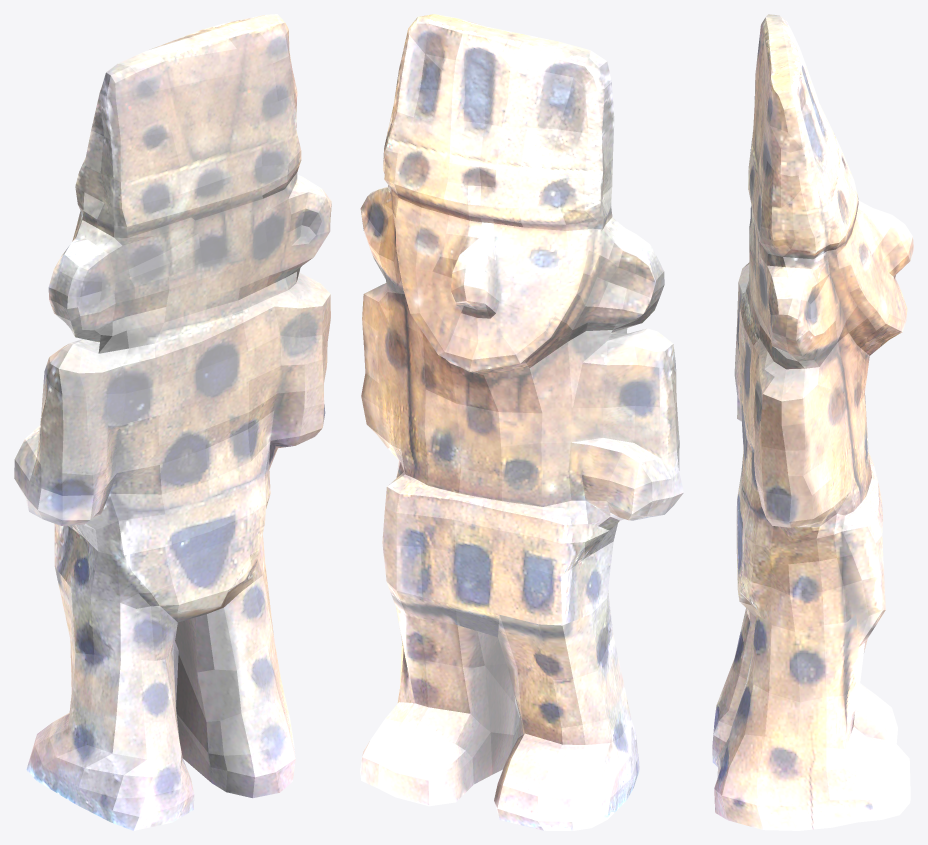
Rendered from escultura_tallada.glb.
3 renders of one model, left to right at view 1: azimuth 30°, elevation 25°; view 2: azimuth 150°, elevation 25°; view 3: azimuth 270°, elevation 25°, orthographic.
Visible parts, largest first — view 1: Box002; view 2: Box002; view 3: Box002.
Boxes of the visible parts, x1,y1,x2,y2 form: Box002: (14, 14, 331, 830); Box002: (360, 14, 683, 830); Box002: (712, 14, 913, 830).
Size of the model in its own units: 2.4 by 5.59 by 1.37.
